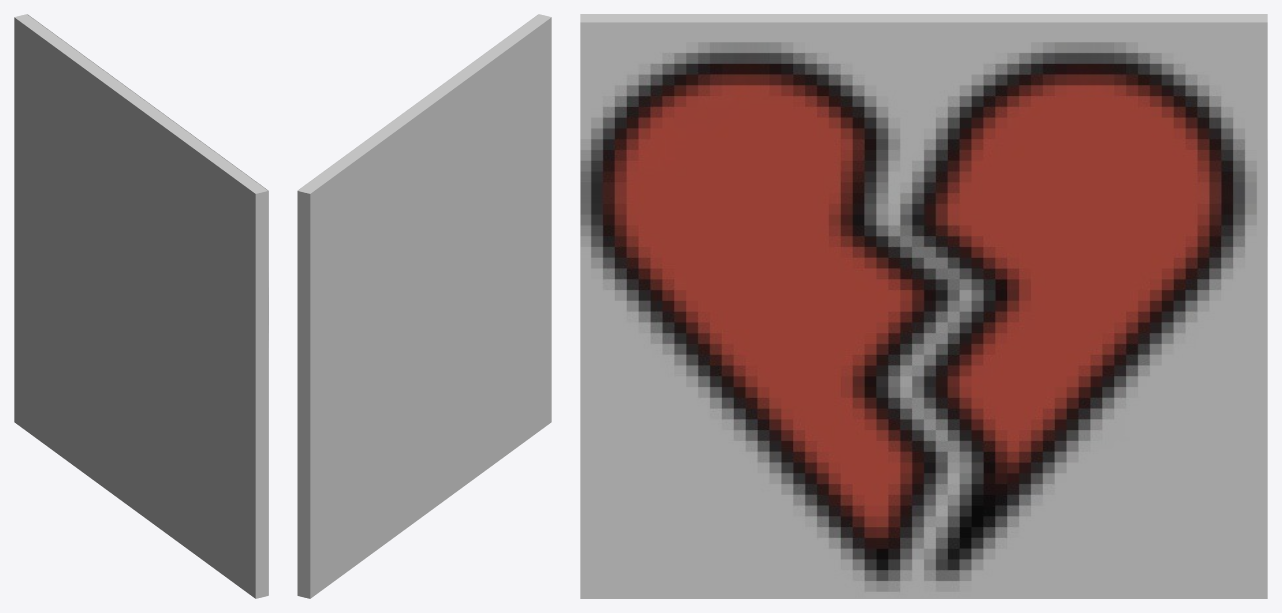
The model's file is photos_ex.glb.
The picture shows the model from 3 angles, left to right: view 1: azimuth 30°, elevation 25°; view 2: azimuth 150°, elevation 25°; view 3: azimuth 270°, elevation 25°; orthographic projection. The views are drawn at different scales.
Parts seen in each view (by area): view 1: Plane.001, Plane.002; view 2: Plane.001, Plane.002; view 3: Plane.002, Plane.001.
Boxes of the visible parts, left/top/right/bottom form: Plane.001: left=14, top=14, right=268, bottom=598; Plane.002: left=27, top=14, right=268, bottom=595; Plane.001: left=297, top=14, right=551, bottom=598; Plane.002: left=297, top=14, right=538, bottom=595; Plane.002: left=580, top=23, right=1267, bottom=598; Plane.001: left=580, top=14, right=1267, bottom=22.
Bounding box in the file's own units: 0.0372 × 1.1 × 1.19.
Materials: 2 (1 with a texture image).
